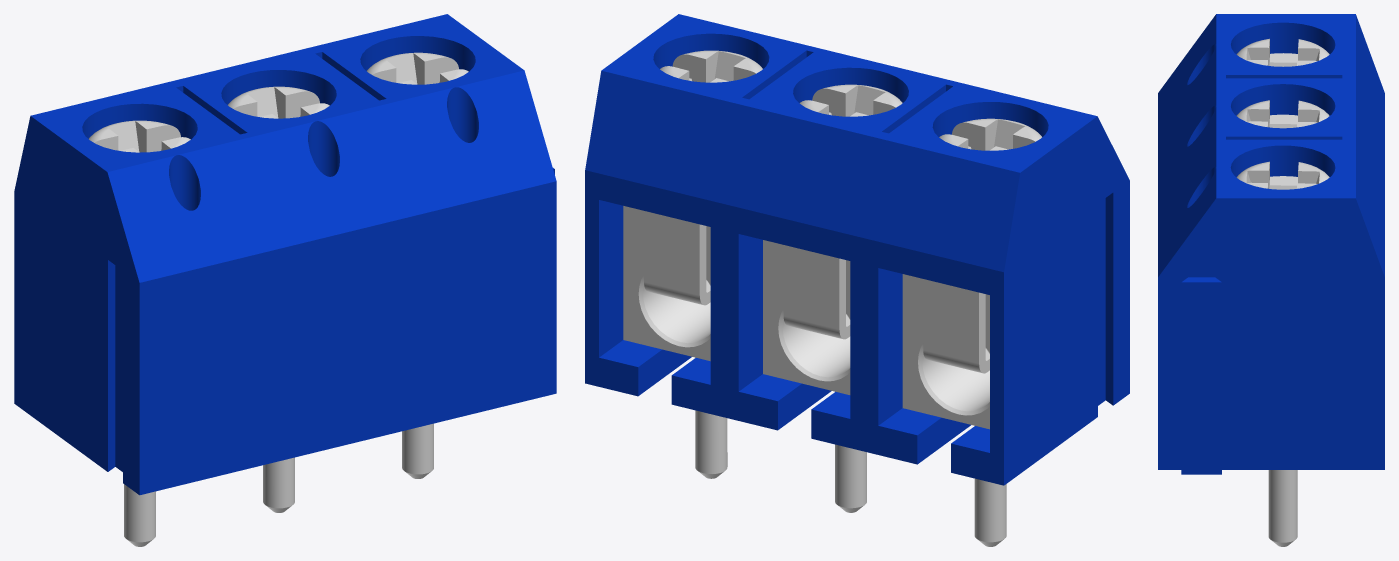
File: Conector v0.fbx
3 views of the same model, side by side, from view 1: azimuth 30°, elevation 25°; view 2: azimuth 150°, elevation 25°; view 3: azimuth 270°, elevation 25° (orthographic). The views are drawn at different scales.
Visible parts, largest first — view 1: Body1 (×7); view 2: Body1 (×10); view 3: Body1 (×5).
Part boxes in pixels (box(x1,y1,x2,y2)): Body1 (×7): box(14, 14, 556, 546); Body1 (×10): box(585, 14, 1129, 546); Body1 (×5): box(1158, 14, 1384, 546).
Bounding box in the file's own units: 15.4 × 14.3 × 7.8.
